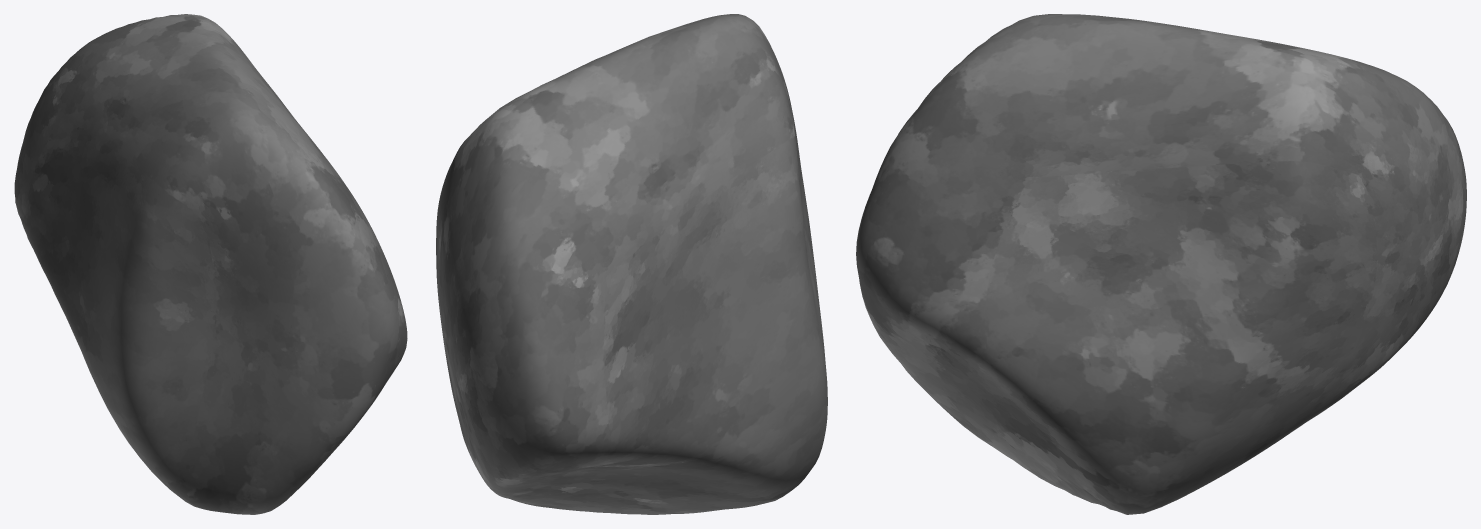
The model's file is Pedra.fbx.
3 views of the same model, side by side, from view 1: azimuth 30°, elevation 25°; view 2: azimuth 150°, elevation 25°; view 3: azimuth 270°, elevation 25° (orthographic). The views are drawn at different scales.
Parts seen in each view (by area): view 1: Pedras; view 2: Pedras; view 3: Pedras.
Boxes of the visible parts, left/top/right/bottom form: Pedras: left=14, top=14, right=407, bottom=514; Pedras: left=436, top=14, right=827, bottom=514; Pedras: left=856, top=14, right=1466, bottom=514.
Size of the model in its own units: 106 by 169 by 202.
Materials: 1 (1 with a texture image).
